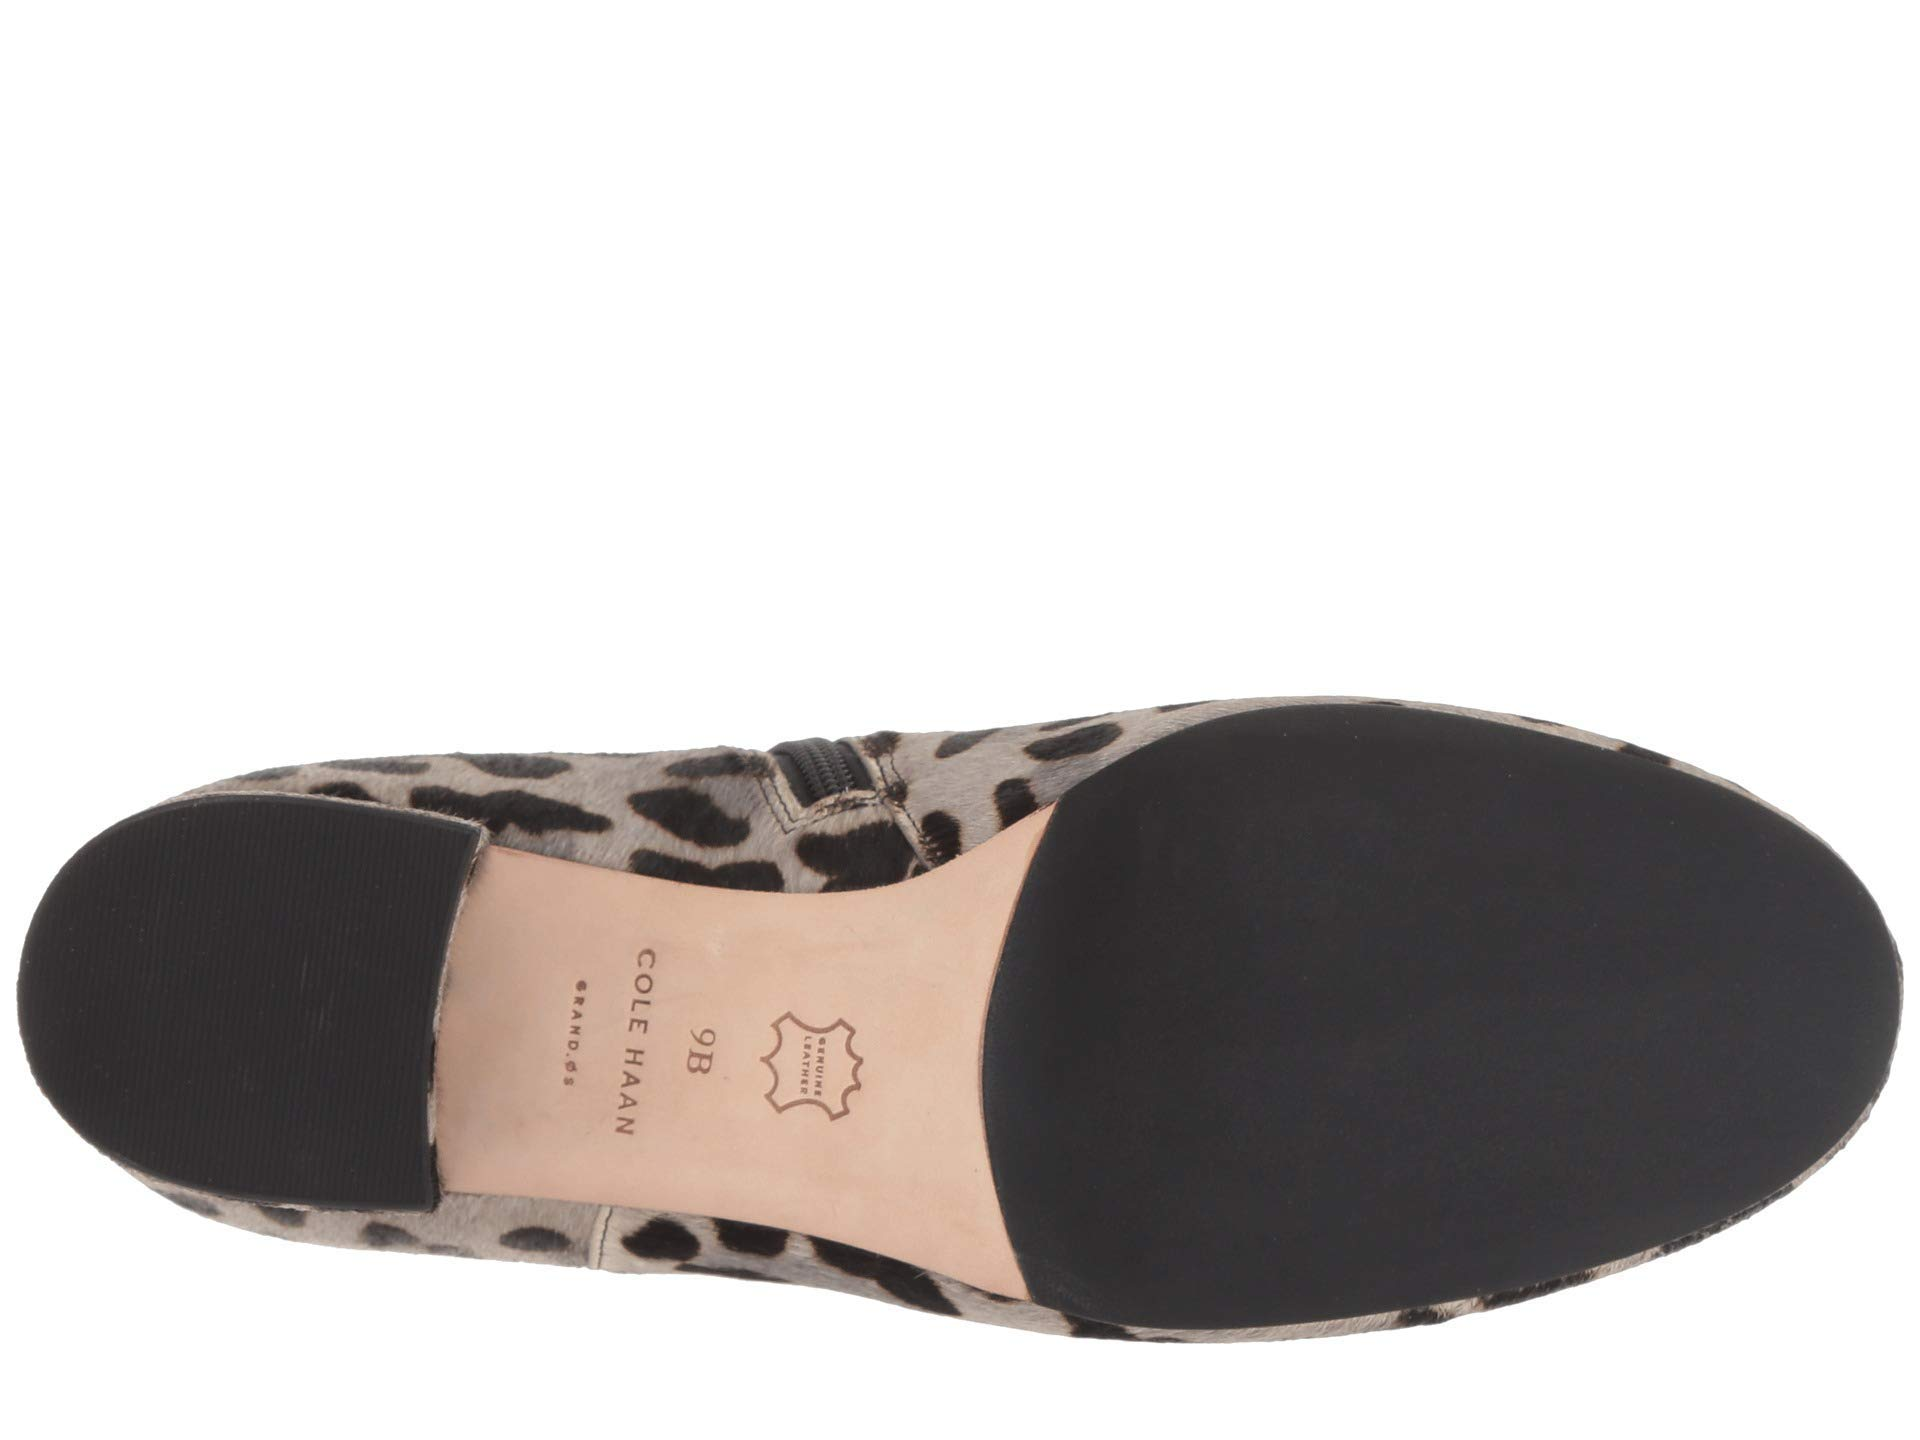exclude: (432, 803, 1054, 1296)
